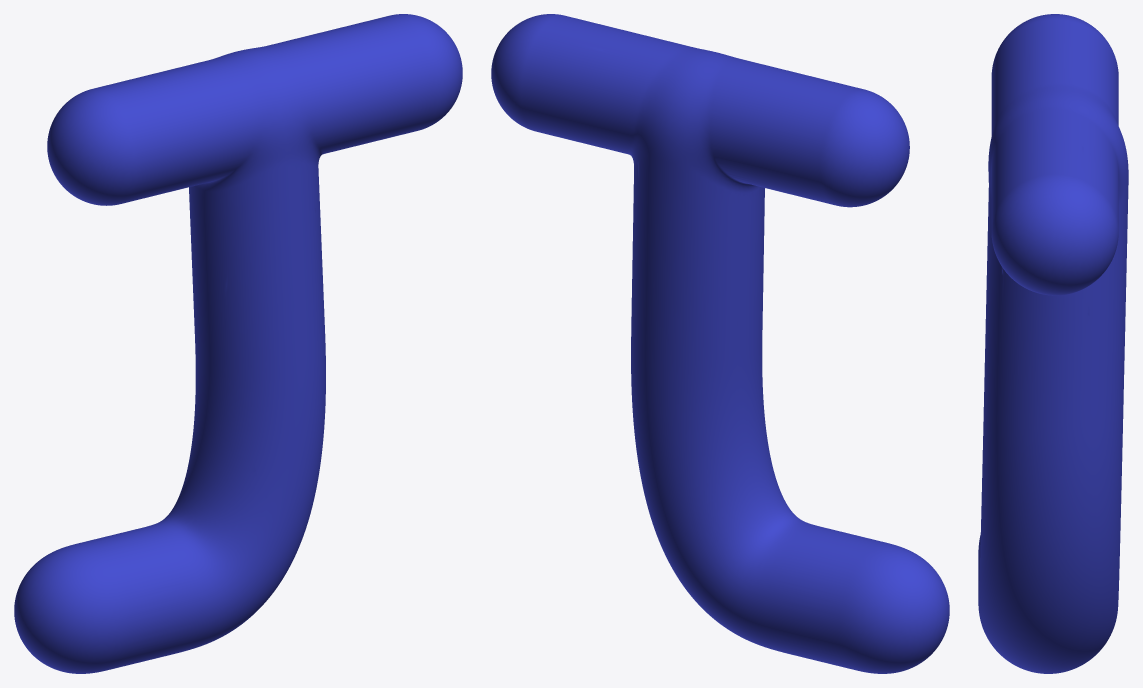
The model's file is letter-j.glb.
3 renders of one model, left to right at view 1: azimuth 30°, elevation 25°; view 2: azimuth 150°, elevation 25°; view 3: azimuth 270°, elevation 25°, orthographic. The views are drawn at different scales.
Parts seen in each view (by area): view 1: node_id3; view 2: node_id3; view 3: node_id3.
Part boxes in pixels (x1,y1,x2,y2): node_id3: (14, 14, 462, 673); node_id3: (491, 14, 949, 673); node_id3: (978, 14, 1128, 673).
Size of the model in its own units: 0.4112 by 0.512 by 0.1146.
1 material, 1 textured.
